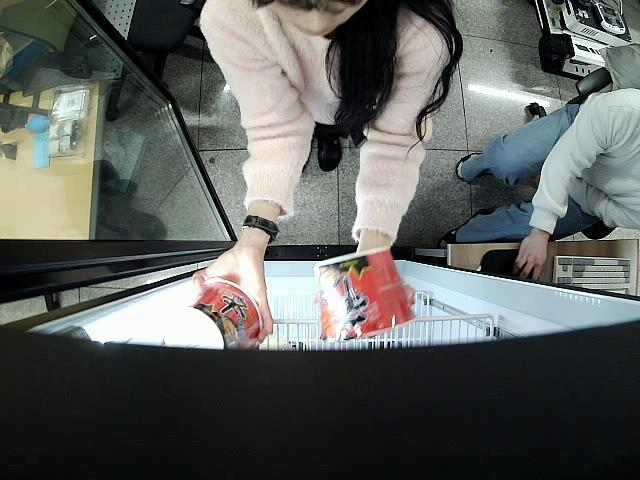00_hand: (189, 251, 275, 345), (517, 232, 549, 281)
01_shinRamen_L: (315, 246, 423, 341), (165, 278, 262, 350)
